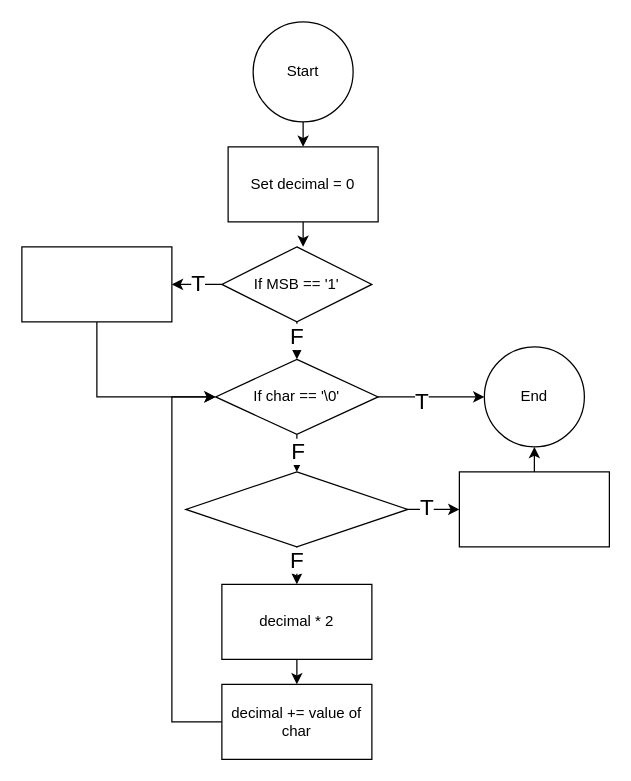
This 631x781 diagram has some shape labels left out. Here are the shapes that lost their labels. From the top down, the box of each, then its label:
(21, 246, 172, 322): Set decimal = -1, increment pointer
(185, 471, 408, 547): If decimal * 2 results in overflow
(458, 471, 609, 547): decimal = 0, set overflow flag
